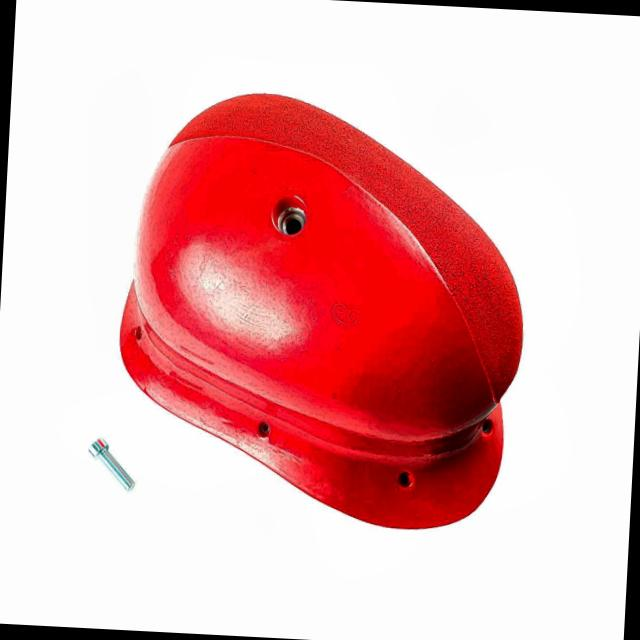Hold: (113, 80, 529, 532)
